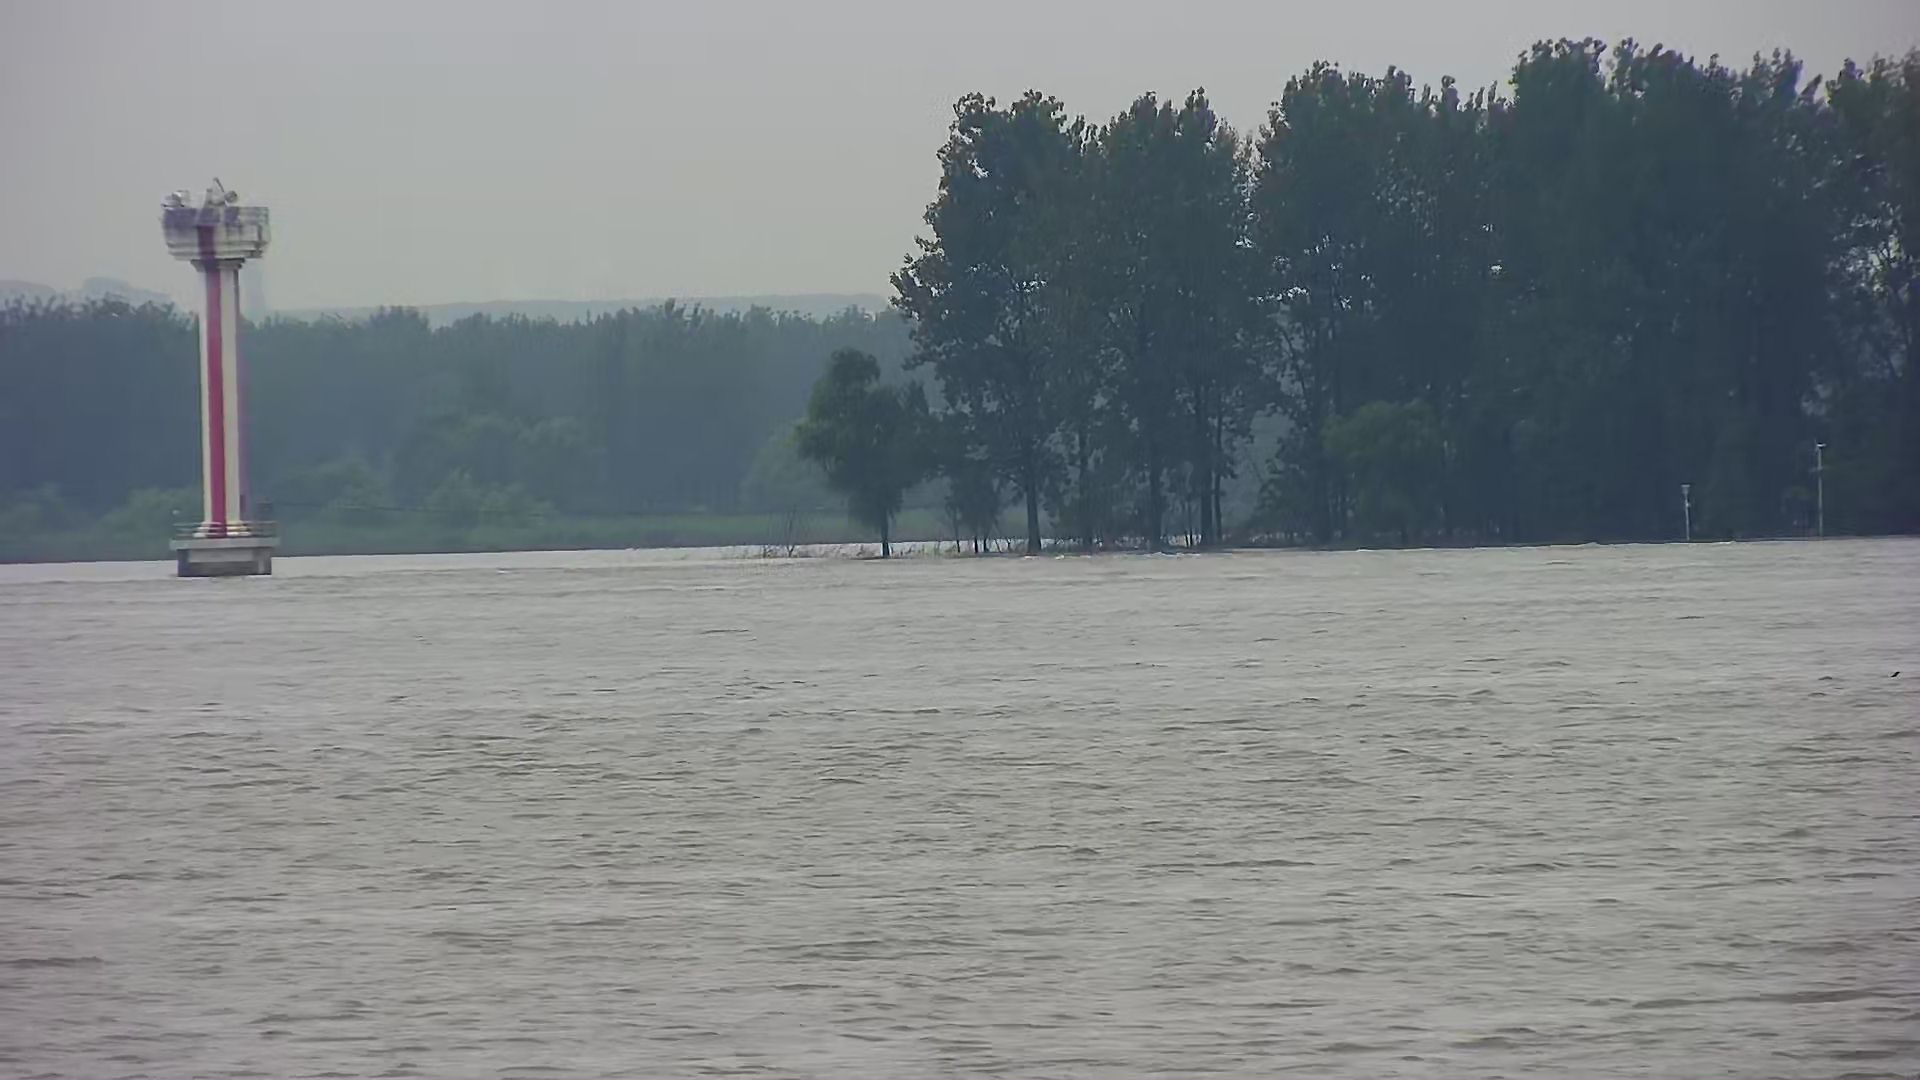platform: (150, 179, 294, 579)
tree: (1530, 36, 1836, 545), (1040, 86, 1267, 546), (1464, 40, 1665, 545), (1237, 59, 1428, 550), (1362, 86, 1553, 545), (916, 98, 1098, 558), (1783, 51, 1920, 539), (800, 342, 939, 560)
